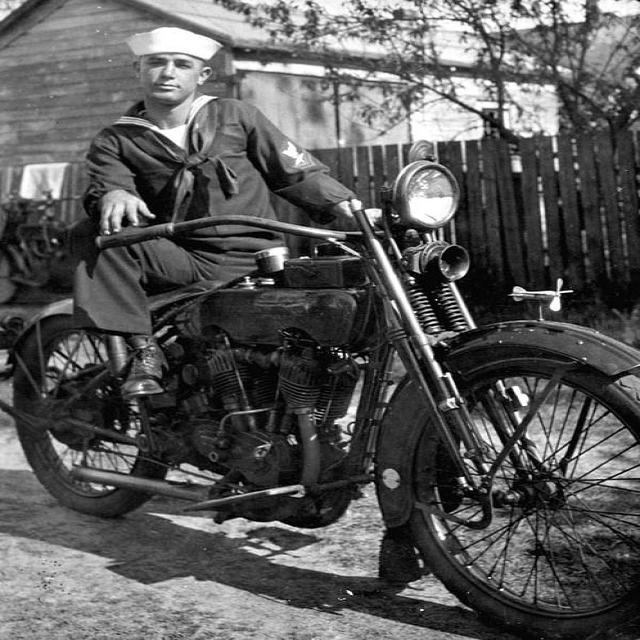motor: (11, 138, 640, 633)
